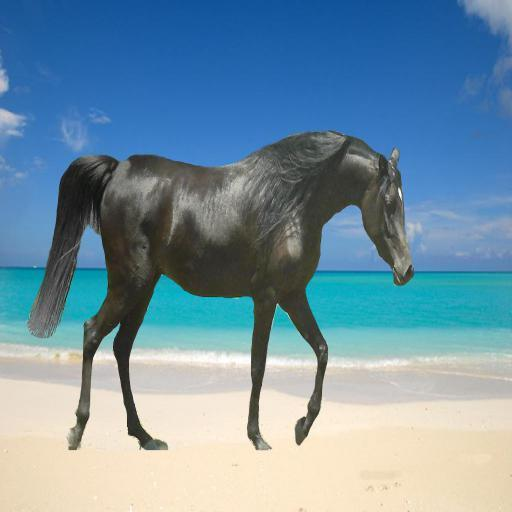horse: (26, 130, 414, 451)
